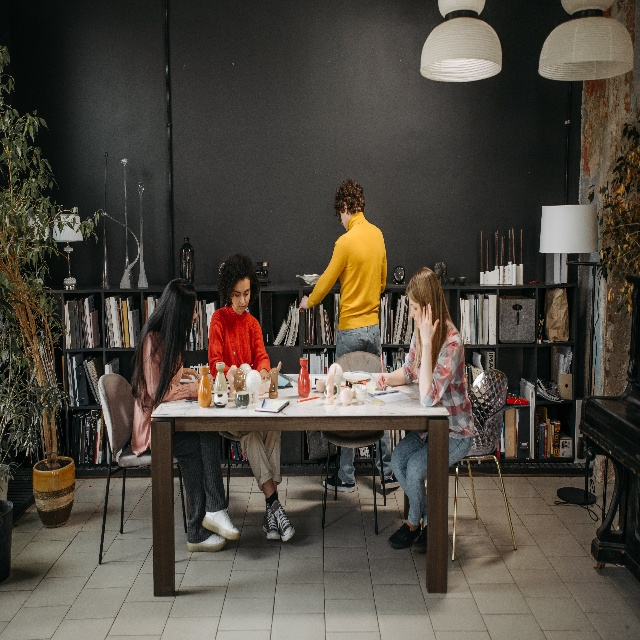Sin_guantes: (418, 303, 440, 344), (180, 366, 200, 381), (375, 372, 388, 392), (298, 295, 310, 313), (259, 368, 271, 381), (206, 374, 214, 392)
